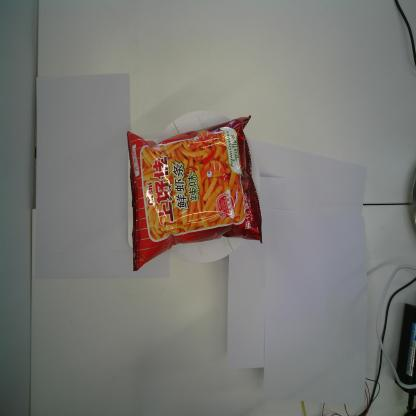Puffed Food: (127, 114, 262, 273)
